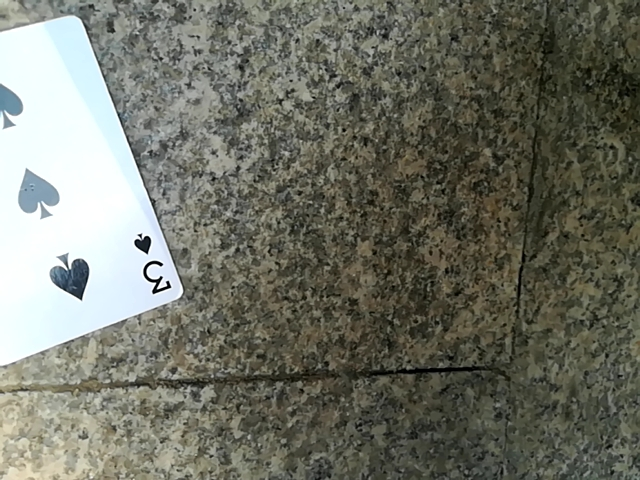ht 3: (0, 7, 177, 394)
